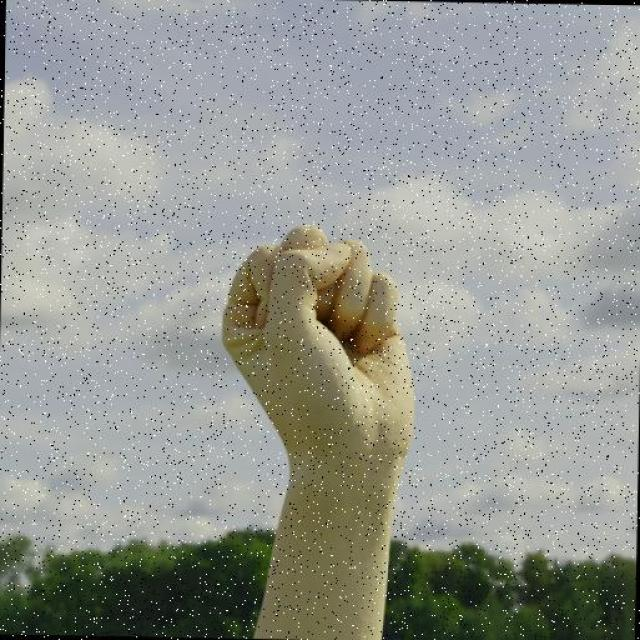S: (210, 218, 424, 477)
